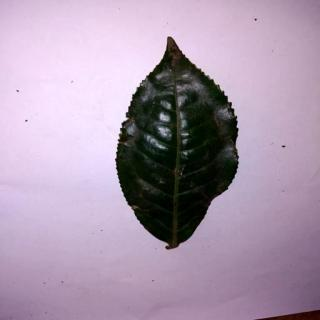Bird Eye Spot: (115, 38, 239, 249)
